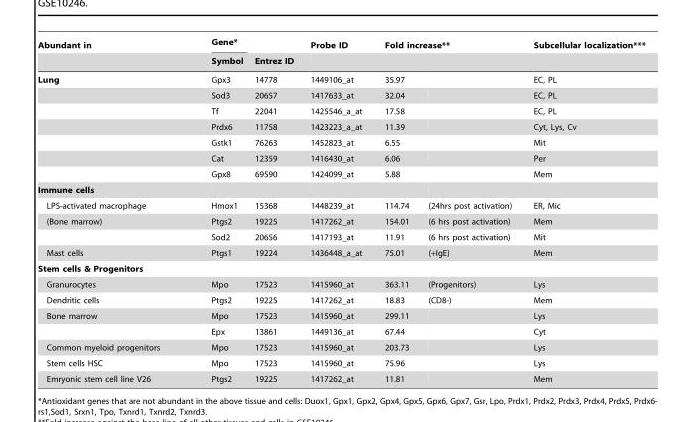table: (37, 37, 645, 383)
table column: (37, 37, 184, 383), (521, 37, 645, 383), (417, 37, 521, 383), (301, 37, 372, 383), (184, 37, 248, 383), (248, 37, 301, 383), (372, 37, 417, 383)
table column header: (37, 37, 645, 70)
table projected row header: (37, 181, 645, 197), (37, 260, 645, 276)
table row: (37, 52, 645, 70), (37, 70, 645, 87), (37, 243, 645, 260), (37, 87, 645, 103), (37, 118, 645, 134), (37, 134, 645, 150), (37, 150, 645, 166), (37, 181, 645, 197), (37, 197, 645, 213), (37, 213, 645, 229), (37, 260, 645, 276), (37, 276, 645, 292), (37, 307, 645, 323), (37, 323, 645, 339), (37, 339, 645, 355), (37, 37, 645, 52), (37, 103, 645, 118), (37, 166, 645, 181), (37, 292, 645, 307), (37, 355, 645, 370), (37, 229, 645, 243), (37, 370, 645, 383)
table spanning cell: (37, 70, 184, 181), (37, 37, 184, 70), (37, 307, 184, 339), (37, 213, 184, 243), (521, 37, 645, 70), (301, 37, 372, 70), (372, 37, 521, 52), (184, 37, 248, 70), (248, 37, 301, 70)
